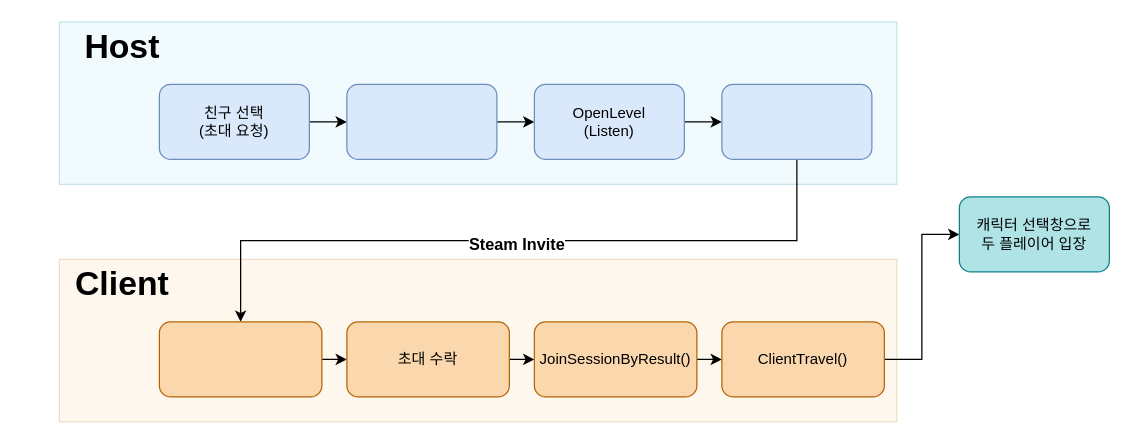
This 1131x444 diagram has some shape labels left out. The shapes that lost their labels are listed below. From the top down, each one's centre as x and y in pixels, then its label:
[421,121]: Host : CreateSession(2)
[796,121]: Steam 친구 초대 전송
[240,359]: Steam 친구 초대 표시
